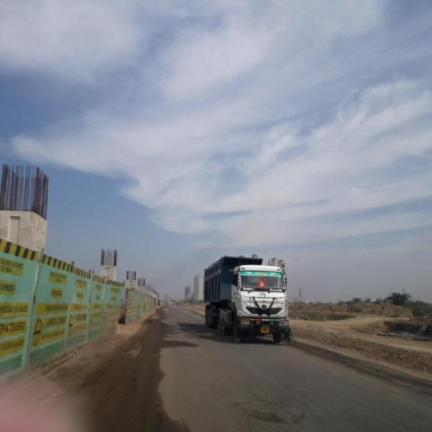Road: (80, 307, 431, 431)
